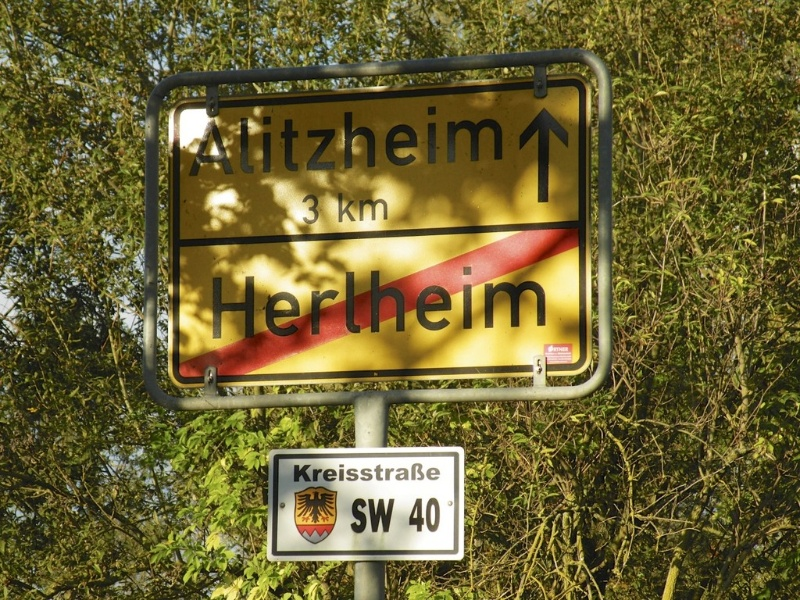straight_direction: (511, 101, 575, 212)
